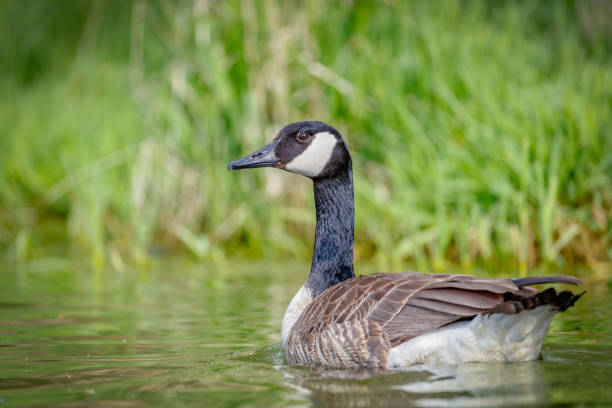goose: (224, 119, 589, 377)
